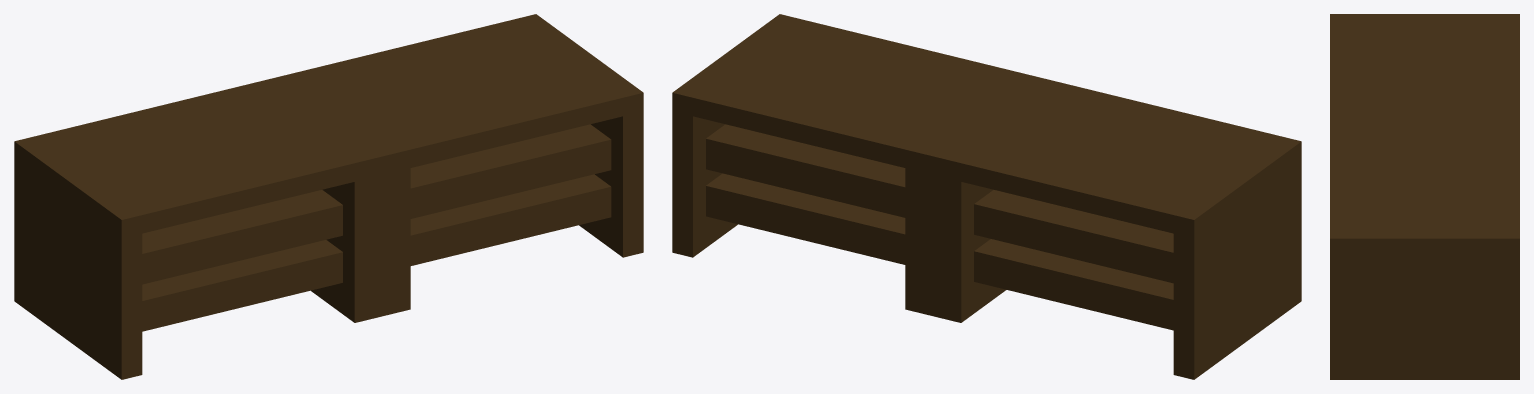
File: KitchenIsland.fbx
3 renders of one model, left to right at view 1: azimuth 30°, elevation 25°; view 2: azimuth 150°, elevation 25°; view 3: azimuth 270°, elevation 25°, orthographic. The views are drawn at different scales.
Parts seen in each view (by area): view 1: Cube.017; view 2: Cube.017; view 3: Cube.017.
Part boxes in pixels (x1,y1,x2,y2): Cube.017: (14, 14, 643, 379); Cube.017: (672, 14, 1301, 379); Cube.017: (1330, 14, 1519, 379).
Bounding box in the file's own units: 2254 × 660 × 804.
